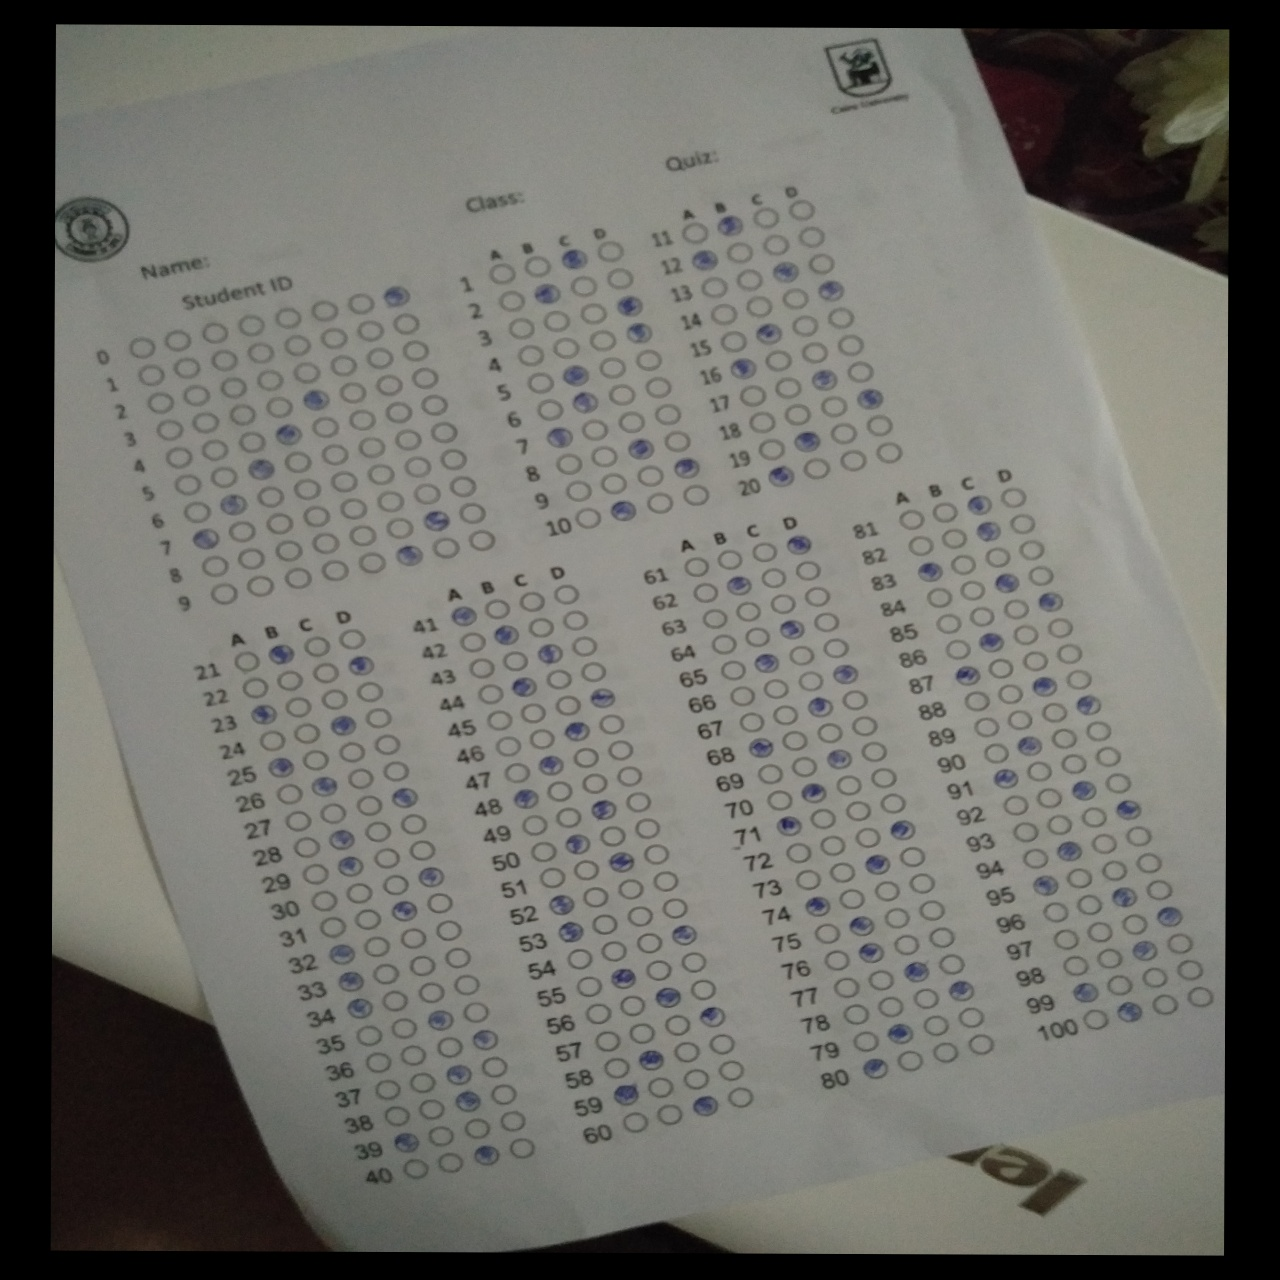not-c: (291, 835, 322, 862), (345, 291, 377, 316), (373, 373, 406, 399), (411, 482, 444, 508), (392, 427, 424, 452), (309, 531, 342, 557), (207, 581, 240, 607), (256, 727, 288, 753), (316, 801, 349, 826), (407, 953, 440, 979), (459, 999, 492, 1024), (400, 1156, 433, 1182), (516, 590, 549, 615), (543, 666, 576, 692), (481, 597, 513, 622), (588, 445, 621, 471), (520, 253, 553, 279), (802, 584, 835, 610), (965, 1032, 998, 1057), (938, 526, 971, 552), (549, 583, 583, 607), (300, 862, 331, 888), (479, 1053, 510, 1080), (764, 787, 795, 813), (309, 298, 341, 324), (319, 325, 350, 350), (253, 367, 285, 393), (292, 360, 324, 386), (400, 338, 431, 363), (154, 418, 185, 444), (309, 414, 341, 440), (383, 400, 415, 425), (427, 418, 458, 444), (445, 474, 477, 499), (338, 497, 369, 523), (234, 546, 266, 572), (429, 536, 461, 561), (320, 557, 352, 583), (244, 573, 275, 599), (273, 781, 305, 806), (336, 627, 368, 653), (372, 731, 403, 757), (346, 767, 377, 792), (345, 881, 376, 907), (424, 890, 456, 915), (379, 988, 410, 1014), (416, 979, 448, 1005), (451, 973, 483, 999), (435, 1035, 467, 1061), (583, 1001, 614, 1027), (574, 974, 606, 1000), (632, 931, 663, 956), (678, 951, 709, 976), (687, 978, 719, 1003), (707, 1032, 738, 1057), (680, 1067, 712, 1092), (624, 904, 655, 930), (659, 896, 690, 921), (588, 911, 620, 937), (544, 778, 576, 804), (605, 738, 636, 764), (578, 660, 610, 686), (458, 631, 490, 656), (501, 760, 532, 785), (680, 482, 712, 508), (653, 402, 685, 428), (577, 302, 608, 328), (496, 290, 527, 315), (486, 261, 518, 287), (873, 441, 905, 467), (837, 448, 869, 474), (699, 606, 730, 632), (767, 592, 798, 618), (787, 644, 818, 669), (727, 683, 758, 709), (849, 713, 880, 738), (808, 805, 839, 831), (877, 790, 908, 816), (816, 832, 847, 858), (783, 840, 815, 866), (822, 947, 853, 973), (926, 925, 958, 951), (874, 994, 906, 1020), (911, 986, 942, 1012), (956, 1005, 988, 1030), (896, 508, 927, 533), (930, 501, 961, 526), (1007, 511, 1039, 537), (207, 348, 240, 373), (227, 404, 260, 429), (236, 430, 268, 455), (290, 478, 322, 503), (300, 504, 333, 529), (379, 873, 411, 898), (433, 919, 465, 944), (644, 1076, 676, 1101), (597, 940, 629, 965), (625, 1021, 658, 1046), (597, 470, 629, 495), (515, 343, 547, 368), (549, 336, 581, 361), (679, 222, 712, 246), (681, 554, 714, 579), (842, 799, 874, 824), (849, 1030, 881, 1055), (904, 535, 937, 559), (234, 313, 265, 339), (392, 309, 422, 335), (245, 340, 275, 366), (172, 355, 203, 381), (181, 382, 211, 408), (410, 365, 441, 390), (338, 380, 368, 406), (438, 448, 469, 474), (457, 501, 488, 526), (403, 455, 434, 481), (320, 441, 350, 467), (375, 488, 406, 513), (384, 515, 415, 540), (467, 527, 497, 553), (356, 551, 387, 577), (355, 679, 386, 704), (363, 706, 394, 731), (336, 740, 367, 765), (354, 794, 384, 819), (362, 819, 393, 845), (308, 888, 339, 914), (361, 934, 392, 960), (370, 961, 401, 987), (388, 1014, 418, 1040), (644, 958, 674, 983), (661, 1013, 692, 1039), (615, 877, 646, 903), (651, 869, 681, 894), (641, 842, 672, 867), (615, 763, 646, 789), (595, 713, 626, 738), (553, 692, 584, 717), (526, 727, 557, 753), (797, 224, 828, 250), (723, 239, 754, 265), (744, 293, 775, 319), (825, 306, 856, 332), (845, 359, 876, 384), (828, 420, 858, 445), (865, 413, 896, 438), (743, 625, 774, 651), (717, 658, 748, 683), (736, 709, 767, 735), (835, 772, 865, 798), (794, 869, 824, 894), (828, 860, 858, 886), (921, 1014, 952, 1040), (896, 1048, 926, 1074), (942, 636, 973, 662), (125, 335, 157, 360), (163, 329, 195, 354), (199, 321, 231, 346), (282, 334, 314, 359), (217, 377, 248, 402), (365, 347, 396, 372), (263, 395, 294, 420), (190, 410, 222, 435), (162, 445, 193, 470), (418, 394, 450, 418), (181, 501, 212, 525), (265, 512, 297, 537), (199, 554, 231, 579), (282, 566, 314, 591), (231, 649, 263, 674), (282, 810, 314, 835), (293, 722, 325, 747), (282, 695, 314, 720), (275, 669, 307, 694), (311, 661, 342, 686), (319, 687, 350, 712), (381, 760, 413, 784), (372, 846, 403, 871), (406, 838, 437, 863), (352, 907, 383, 932), (442, 946, 474, 971), (353, 1023, 384, 1048), (406, 1070, 437, 1095), (372, 1078, 403, 1103), (488, 1082, 519, 1107), (497, 1109, 529, 1133), (462, 1116, 493, 1141), (620, 1110, 652, 1135), (653, 1103, 685, 1128), (600, 1056, 632, 1081), (592, 1029, 624, 1054), (564, 947, 595, 972), (617, 994, 648, 1019), (670, 1041, 702, 1065), (571, 858, 602, 883), (536, 866, 567, 891), (529, 840, 560, 865), (597, 824, 628, 849), (631, 816, 662, 840), (622, 789, 654, 813), (570, 634, 601, 659), (560, 608, 592, 633), (525, 615, 557, 640), (476, 682, 508, 707), (499, 649, 531, 674), (570, 745, 601, 770), (563, 479, 594, 504), (554, 452, 586, 477), (633, 464, 665, 489), (644, 491, 675, 516), (617, 410, 648, 435), (578, 417, 610, 442), (535, 399, 566, 423), (598, 355, 629, 380), (542, 309, 573, 334), (604, 267, 635, 292), (787, 198, 818, 223), (761, 232, 792, 257), (734, 267, 765, 292), (699, 274, 730, 299), (779, 285, 811, 309), (708, 301, 740, 326), (836, 333, 867, 358), (736, 383, 768, 408), (782, 402, 813, 427), (745, 411, 777, 436), (755, 437, 787, 462), (799, 457, 831, 482), (748, 542, 779, 566), (791, 559, 823, 584), (733, 599, 764, 624), (707, 633, 738, 658), (795, 668, 826, 693), (760, 676, 791, 701), (769, 703, 801, 728), (840, 688, 872, 713), (754, 762, 785, 787), (788, 755, 819, 779), (898, 844, 930, 869), (871, 880, 903, 905), (837, 888, 869, 913), (881, 906, 913, 931), (915, 899, 947, 924), (891, 933, 922, 958), (930, 1041, 961, 1065), (998, 485, 1029, 510), (1084, 719, 1114, 744), (272, 307, 302, 332), (356, 319, 387, 343), (136, 363, 166, 388), (144, 392, 175, 416), (327, 353, 358, 377), (199, 437, 230, 462), (347, 408, 377, 433), (358, 436, 388, 461), (282, 450, 313, 475), (207, 465, 238, 490), (173, 474, 204, 498), (256, 484, 286, 509), (327, 470, 358, 495), (365, 463, 395, 488), (227, 519, 258, 544), (273, 539, 304, 564), (347, 524, 377, 549), (239, 676, 270, 701), (300, 748, 331, 772), (302, 635, 333, 660), (399, 810, 429, 835), (316, 915, 347, 940), (399, 926, 429, 951), (362, 1050, 393, 1075), (397, 1043, 428, 1068), (381, 1104, 411, 1129), (416, 1097, 447, 1122), (425, 1124, 456, 1149), (436, 1151, 467, 1176), (508, 1136, 538, 1160), (715, 1058, 745, 1083), (724, 1085, 755, 1110), (581, 886, 612, 911), (580, 771, 611, 796), (553, 805, 584, 830), (520, 813, 551, 838), (518, 701, 549, 726), (491, 735, 522, 760), (485, 707, 516, 731), (467, 656, 497, 681), (574, 508, 605, 532), (663, 430, 694, 455), (606, 383, 636, 408), (642, 376, 673, 401), (633, 349, 663, 374), (526, 370, 557, 395), (586, 328, 617, 353), (506, 316, 537, 341), (568, 275, 599, 300), (595, 239, 626, 264), (751, 206, 782, 231), (805, 251, 836, 275), (719, 329, 749, 354), (790, 313, 821, 338), (799, 341, 830, 366), (763, 348, 794, 373), (772, 375, 803, 400), (819, 394, 850, 418), (715, 547, 745, 572), (758, 566, 789, 591), (692, 580, 722, 605), (811, 610, 842, 634), (821, 636, 851, 661), (813, 721, 844, 745), (779, 729, 810, 754), (859, 741, 890, 765), (869, 765, 899, 790), (853, 826, 884, 851), (907, 871, 938, 896), (812, 921, 843, 946), (937, 953, 967, 978), (865, 968, 896, 993), (831, 976, 862, 1001), (839, 1002, 870, 1027), (966, 604, 996, 628), (1000, 597, 1030, 621), (1048, 727, 1078, 751), (1001, 794, 1032, 818), (1105, 972, 1133, 998), (1026, 564, 1055, 588), (1012, 622, 1041, 647), (1039, 701, 1068, 726), (1024, 760, 1054, 784), (1035, 787, 1064, 811), (1144, 878, 1173, 903), (1186, 986, 1216, 1010), (1081, 1007, 1110, 1032), (958, 579, 988, 602), (933, 613, 964, 636), (985, 658, 1015, 681), (1020, 649, 1050, 673), (1054, 642, 1084, 666), (1092, 745, 1123, 769), (1090, 832, 1121, 856), (1020, 847, 1050, 871), (1040, 901, 1070, 925), (1060, 954, 1090, 978), (1095, 948, 1125, 972), (1121, 912, 1149, 937), (1139, 966, 1167, 990), (1176, 958, 1204, 982), (1151, 993, 1179, 1017), (948, 553, 978, 577), (983, 546, 1013, 570), (925, 586, 954, 610), (1046, 617, 1075, 640), (1064, 668, 1094, 692), (995, 683, 1024, 707), (962, 690, 992, 714), (971, 716, 1000, 740), (1005, 709, 1034, 733), (981, 742, 1010, 765), (1058, 753, 1088, 776), (1104, 771, 1133, 795), (1044, 813, 1074, 837), (1080, 806, 1109, 830), (1124, 825, 1153, 849), (1064, 866, 1094, 890), (1099, 859, 1129, 883), (1133, 851, 1163, 874), (1075, 893, 1104, 917), (1051, 927, 1081, 951), (1085, 921, 1115, 945), (1167, 932, 1194, 956), (1017, 538, 1046, 561), (1012, 821, 1040, 844)
taken-c: (535, 754, 567, 779), (946, 979, 978, 1005), (189, 527, 222, 552), (388, 899, 421, 924), (586, 687, 619, 712), (448, 605, 481, 629), (1114, 1000, 1146, 1024), (1014, 735, 1047, 760), (568, 392, 602, 415), (381, 282, 411, 308), (421, 509, 452, 533), (326, 713, 358, 737), (326, 828, 358, 852), (443, 1063, 475, 1088), (454, 1089, 485, 1114), (471, 1143, 503, 1167), (689, 1094, 721, 1118), (636, 1048, 668, 1073), (652, 985, 683, 1009), (608, 967, 640, 992), (668, 924, 700, 948), (510, 788, 542, 812), (491, 622, 523, 647), (544, 425, 576, 450), (559, 248, 591, 273), (855, 387, 886, 411), (777, 617, 809, 641), (1069, 980, 1101, 1005), (1129, 939, 1160, 964), (990, 767, 1022, 791), (1074, 693, 1105, 717), (952, 663, 983, 688), (975, 631, 1007, 655), (992, 571, 1023, 595), (271, 424, 304, 448), (264, 644, 297, 667), (264, 756, 297, 779), (325, 942, 358, 966), (610, 1083, 642, 1107), (697, 1005, 730, 1028), (509, 675, 542, 699), (535, 642, 567, 666), (531, 282, 564, 306), (815, 280, 847, 304), (753, 322, 785, 346), (727, 358, 760, 381), (856, 941, 888, 965), (1108, 885, 1141, 908), (1053, 839, 1085, 863), (964, 493, 996, 517), (247, 702, 278, 727), (390, 785, 421, 810), (546, 892, 577, 917), (561, 719, 592, 743), (753, 651, 783, 675), (805, 694, 836, 719), (824, 747, 855, 771), (799, 781, 830, 805), (1155, 905, 1185, 930), (1035, 591, 1065, 615), (300, 389, 332, 413), (217, 493, 248, 517), (394, 545, 425, 568), (346, 654, 377, 678), (308, 776, 340, 799), (415, 865, 447, 888), (343, 996, 375, 1020), (425, 1008, 457, 1032), (470, 1028, 502, 1051), (392, 1131, 423, 1155), (554, 921, 586, 945), (563, 832, 594, 856), (588, 799, 620, 823), (607, 499, 639, 523), (670, 458, 702, 482), (626, 438, 658, 462), (559, 365, 591, 388), (688, 248, 720, 272), (714, 215, 745, 238), (765, 464, 797, 488), (830, 662, 862, 686), (745, 736, 777, 760), (772, 813, 804, 837), (888, 817, 920, 840), (863, 853, 894, 877), (803, 896, 835, 919), (901, 961, 933, 985), (885, 1022, 917, 1046), (858, 1057, 890, 1081), (1029, 873, 1061, 897), (1068, 779, 1099, 803), (1029, 675, 1061, 699), (973, 520, 1005, 544), (622, 322, 655, 345), (783, 533, 816, 556), (245, 458, 275, 482), (335, 855, 366, 878), (334, 969, 365, 993), (606, 851, 636, 874), (615, 295, 646, 319), (792, 431, 823, 455), (724, 573, 755, 597), (846, 913, 877, 937), (809, 369, 840, 392), (1114, 799, 1145, 822), (914, 561, 946, 584), (770, 261, 801, 284)
